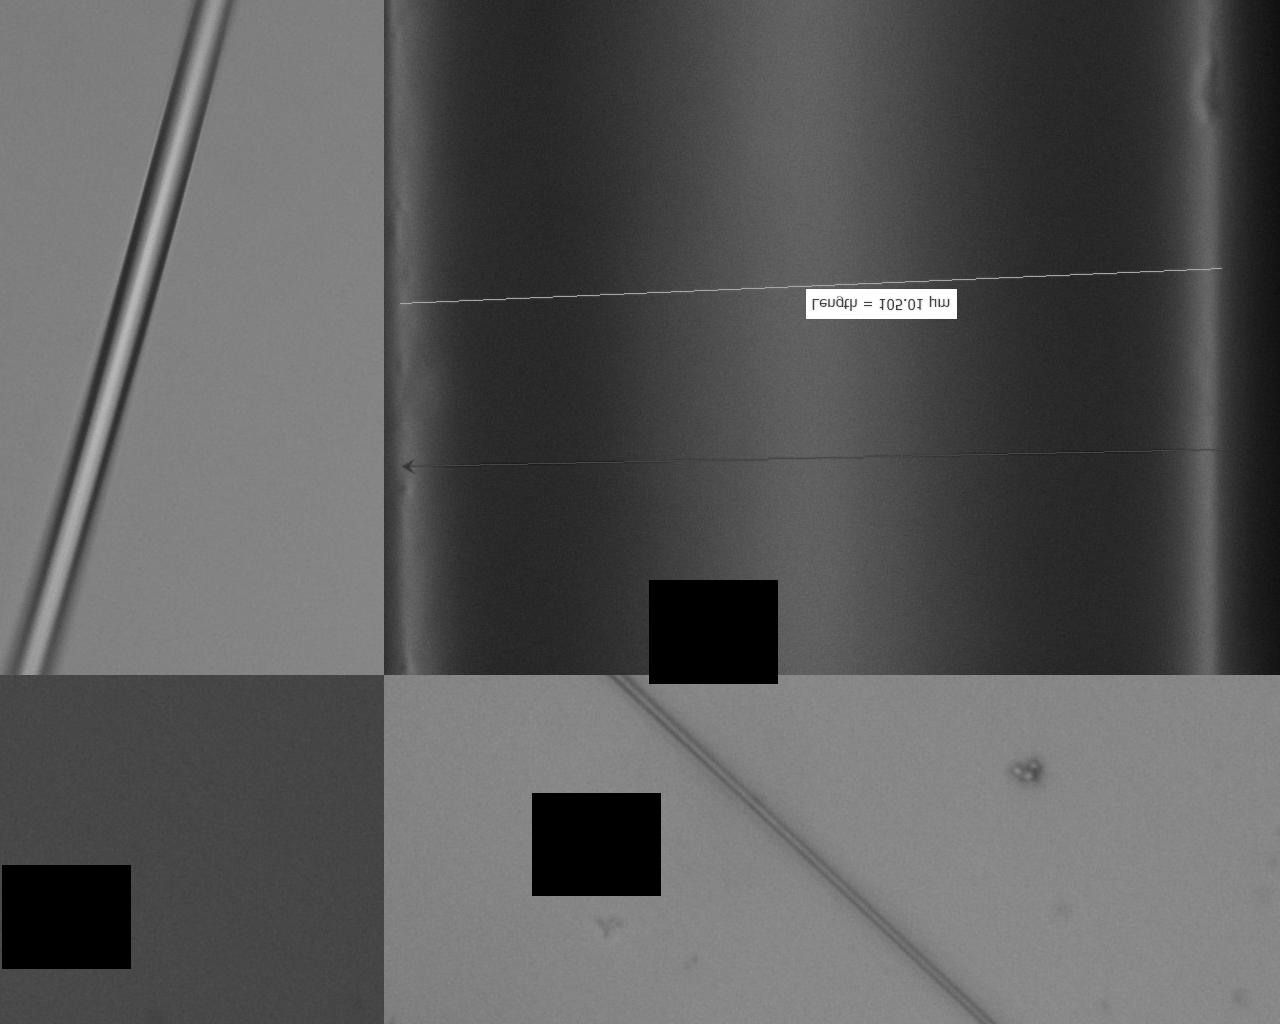fiber: (762, 0, 983, 727), (969, 727, 1064, 1024)
